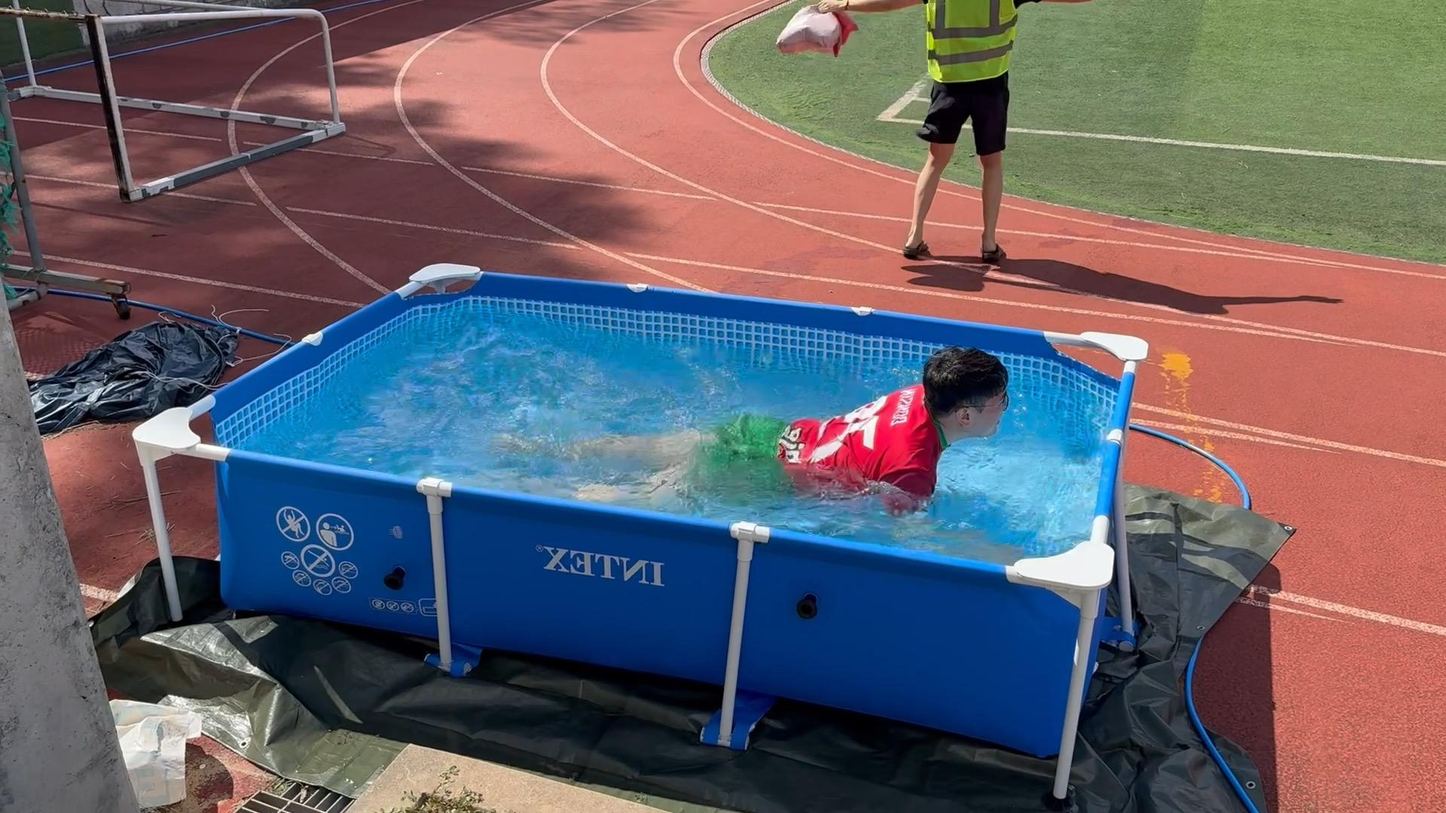Person-out-of-water: (872, 0, 1078, 270)
Swimming: (448, 345, 1041, 530)
